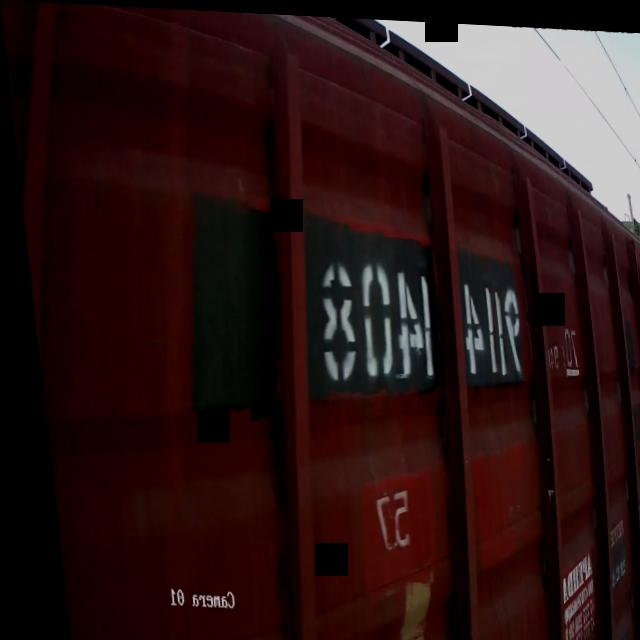hopper: (0, 0, 640, 640), (620, 199, 640, 533)
